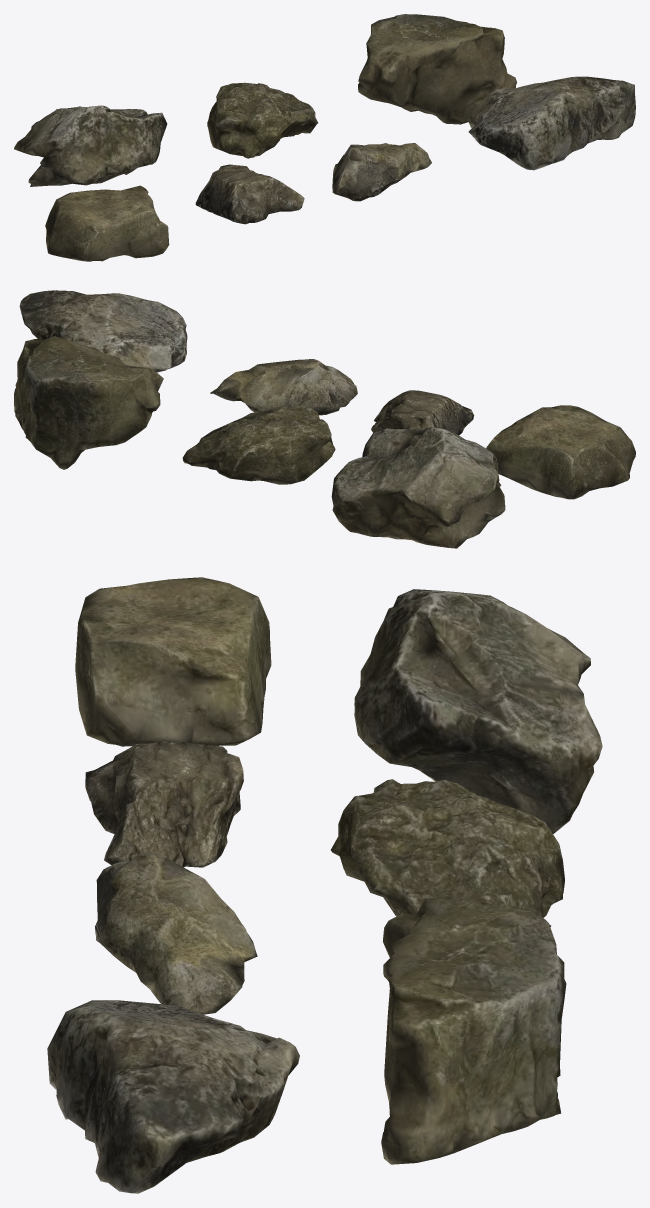
The model's file is rock_moss_2.glb.
3 renders of one model, top to bottom at view 1: azimuth 30°, elevation 25°; view 2: azimuth 150°, elevation 25°; view 3: azimuth 270°, elevation 25°, orthographic. The views are drawn at different scales.
Parts seen in each view (by area): view 1: rock_moss_set_02_rock08; view 2: rock_moss_set_02_rock08; view 3: rock_moss_set_02_rock08.
Boxes of the visible parts, x1,y1,x2,y2 form: rock_moss_set_02_rock08: (14,14,635,261); rock_moss_set_02_rock08: (14,290,635,548); rock_moss_set_02_rock08: (47,577,602,1193).
Size of the model in its own units: 8.28 by 1.36 by 3.41.
1 material, 1 textured.
